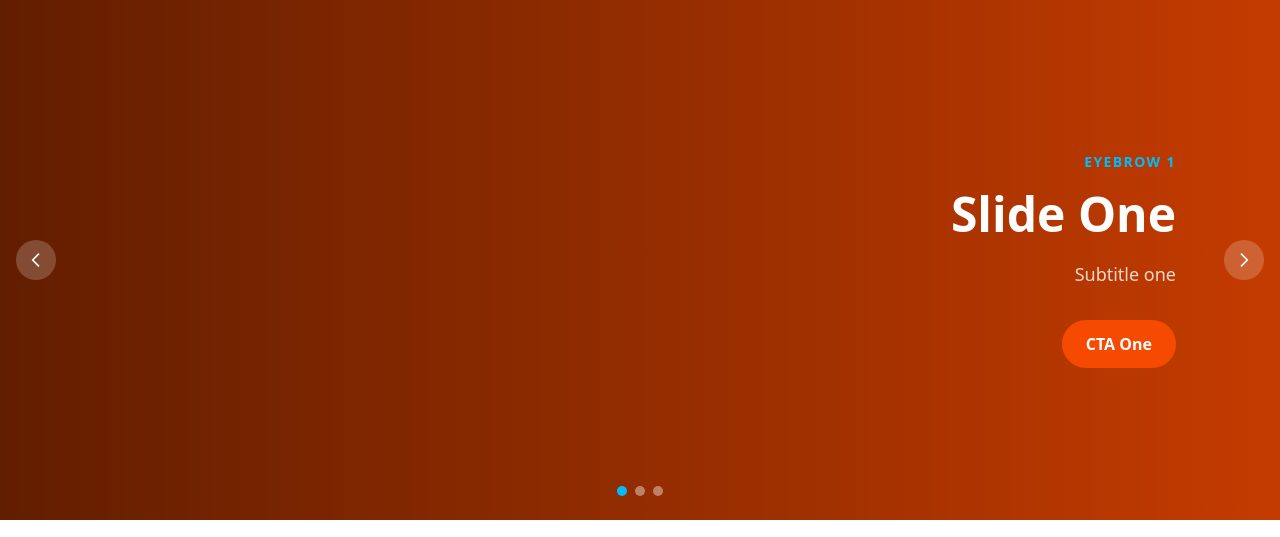
HeroSlider › wraps to the last slide when prev is clicked on slide 0
Click the button named "Previous slide".
click(36, 260)  # box [16, 240, 56, 280]
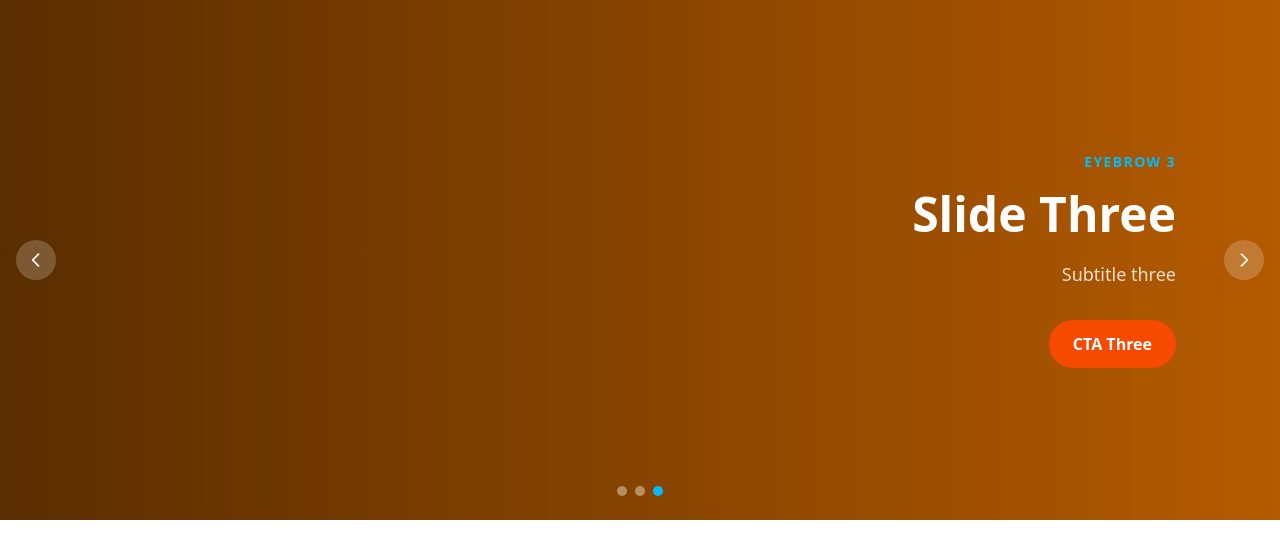
Expected: the text "Slide Three" is shown, [912, 184, 1176, 244]
